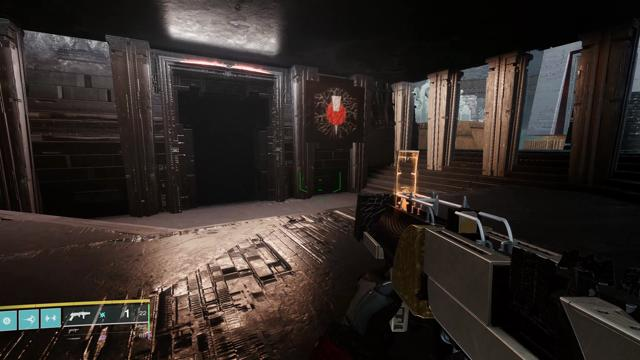kill: (314, 87, 357, 140)
